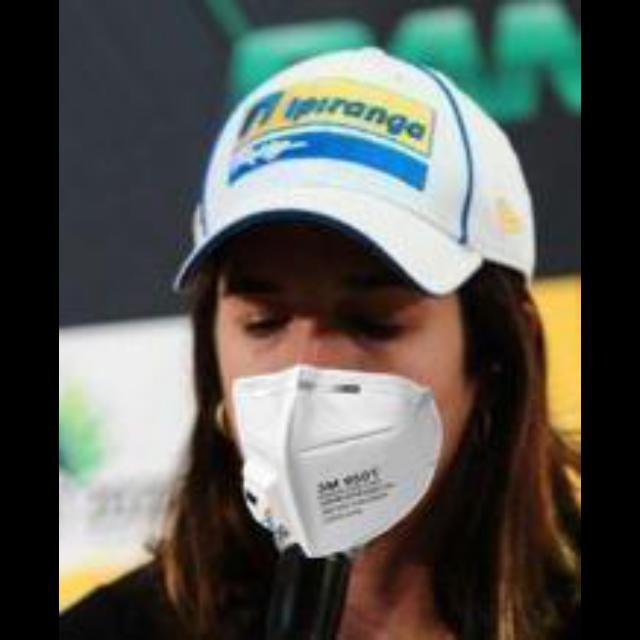suspicion: (189, 35, 576, 563)
